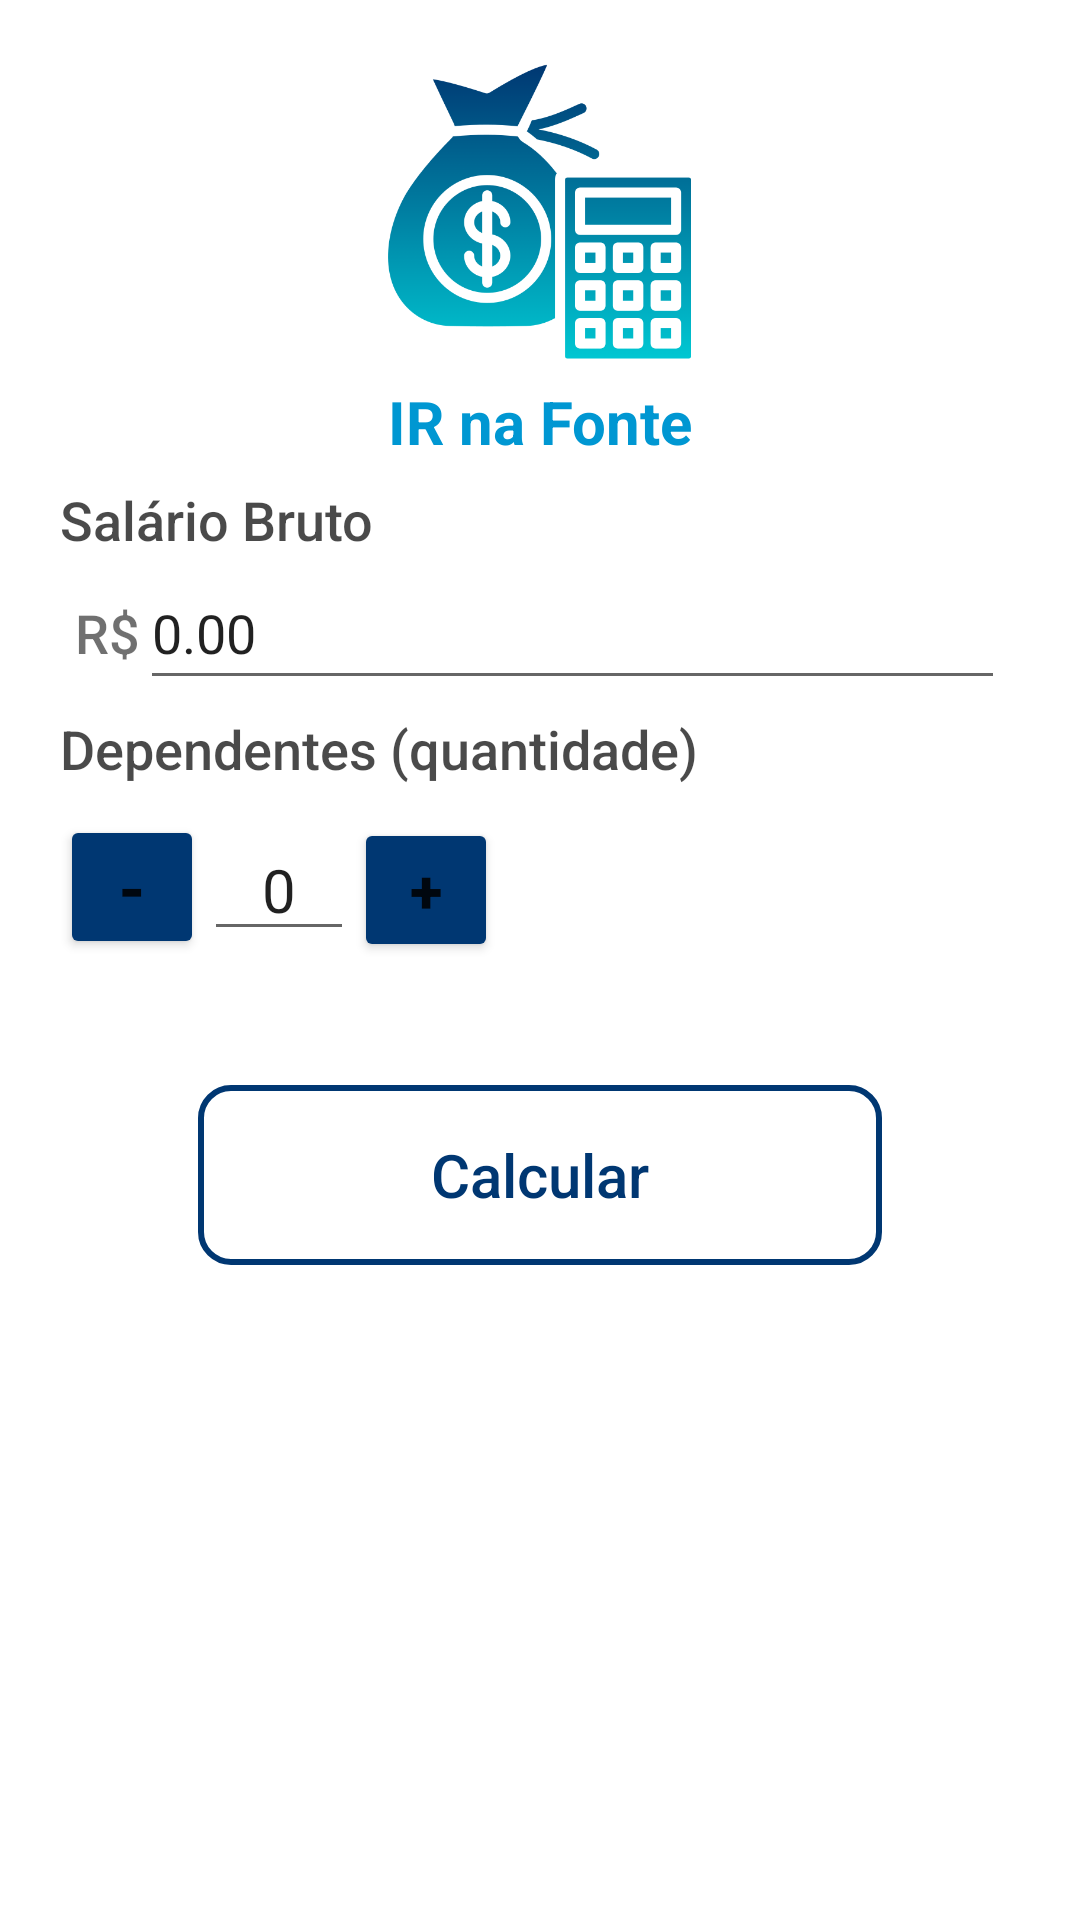

Screen size 1080px×1920px. Icon name, then its box in pixels as [x1=x1, y1=y1, x2=x2, y2=y2]:
contabilidade: [x1=388, y1=65, x2=691, y2=359]
